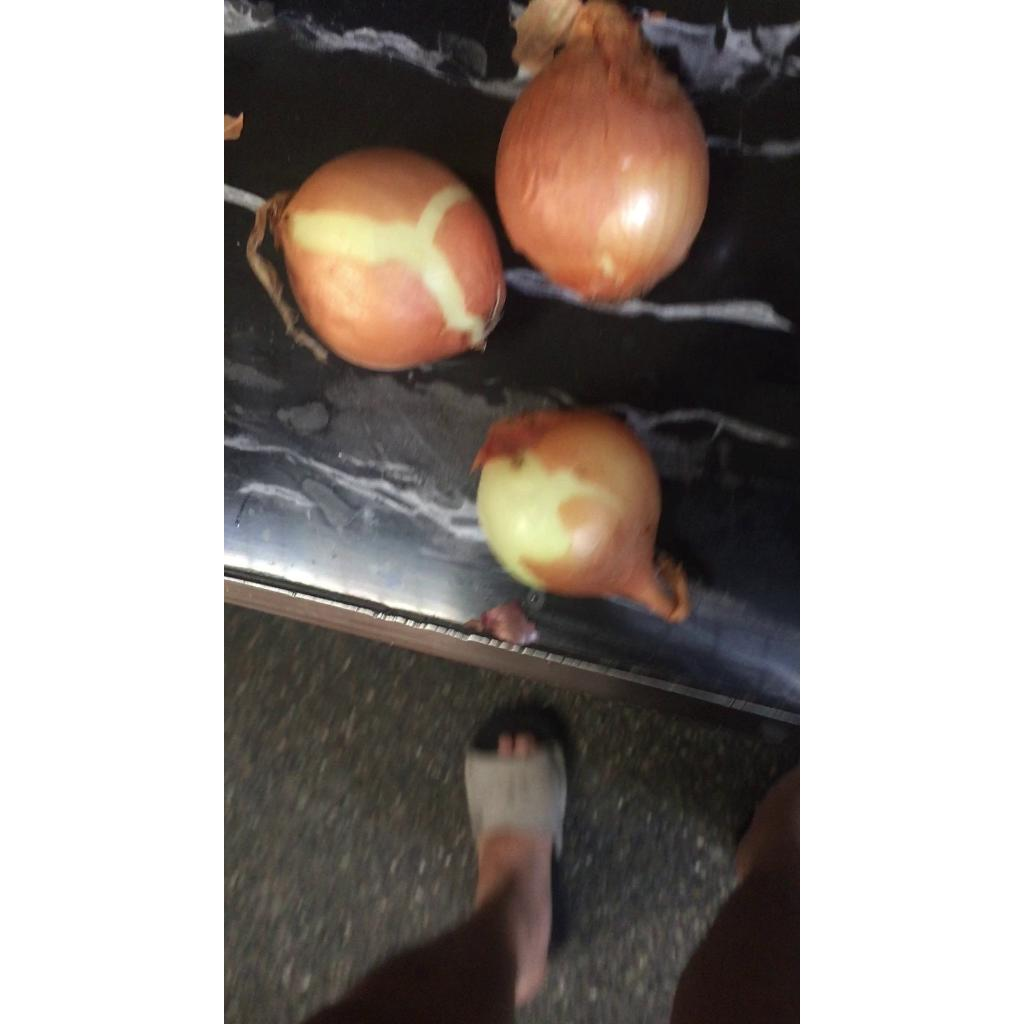Onion: (495, 0, 708, 302), (272, 147, 505, 370), (472, 410, 690, 623)
